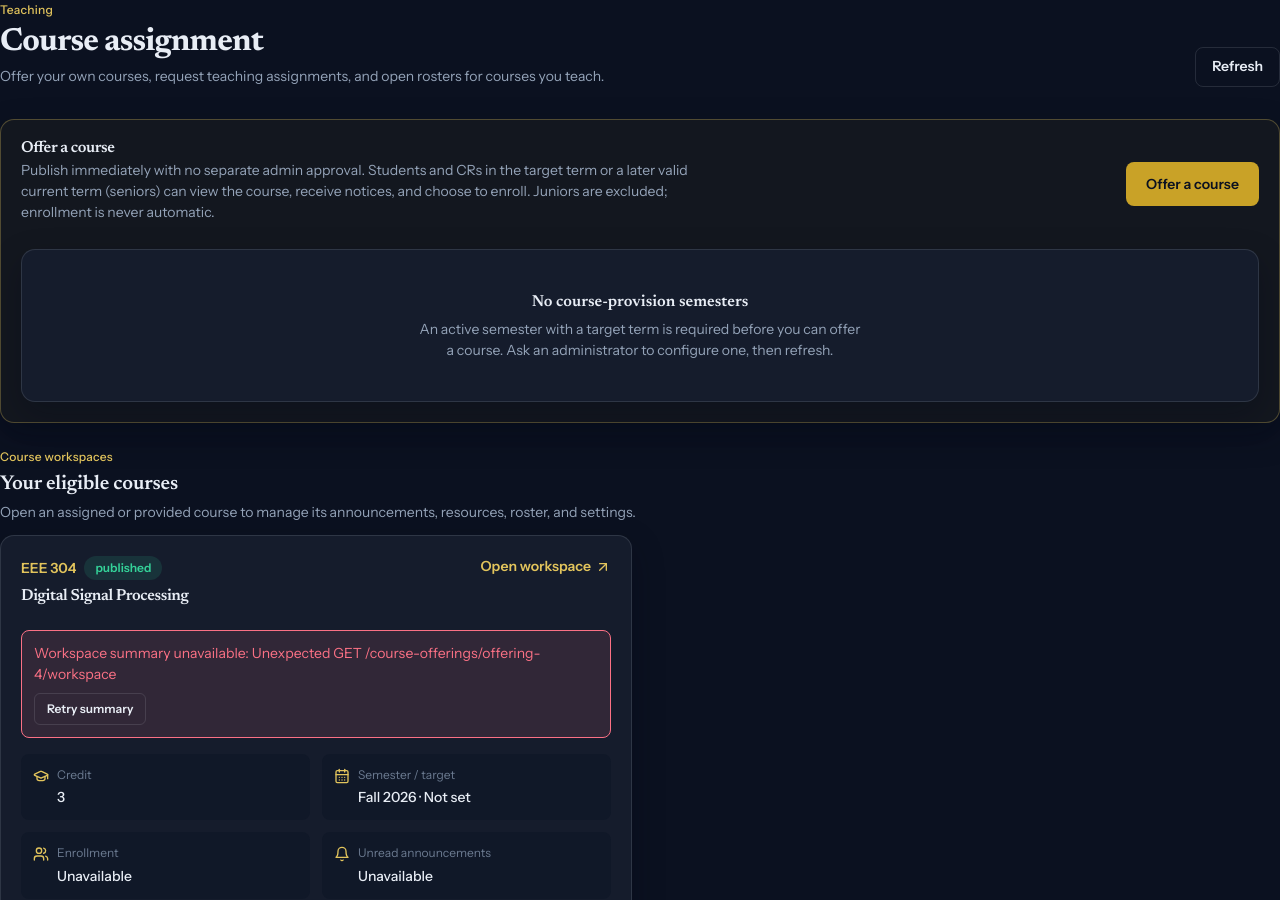
it: TeacherAssignmentPage › explains when no configured semester is available and prevents submission
expect the heading "No course-provision semesters" is shown: met, box [532, 294, 748, 310]
Click the button "Offer a course" at point(1193, 184), box [1126, 162, 1259, 206]
(page scrolled)
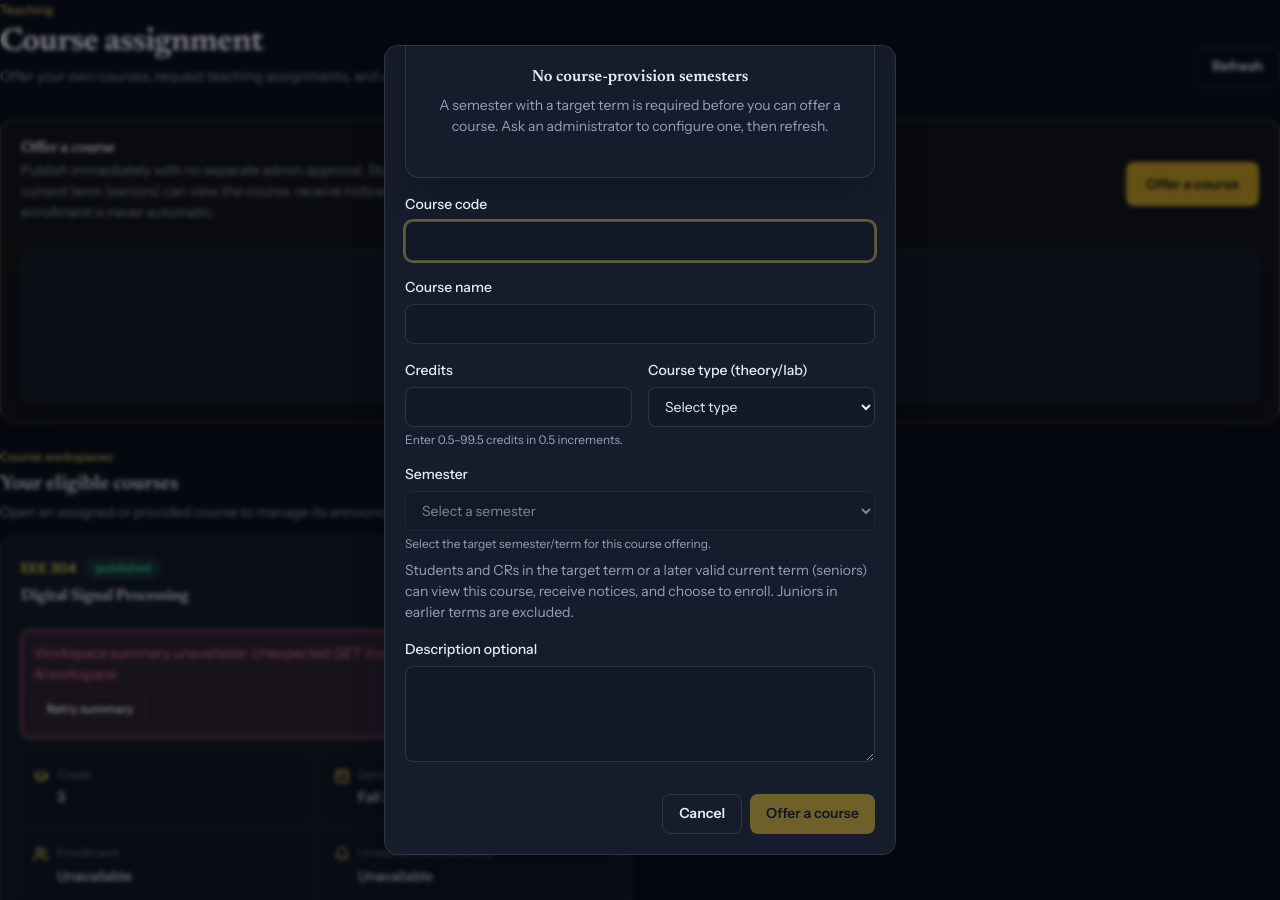
expect the text "Ask an administrator to configure one, then refresh." is shown: met, box [439, 96, 841, 135]
expect the dropdown labelled "Semester" is disabled: met, box [405, 491, 875, 531]
expect the button "Offer a course" is disabled: met, box [750, 794, 875, 834]
